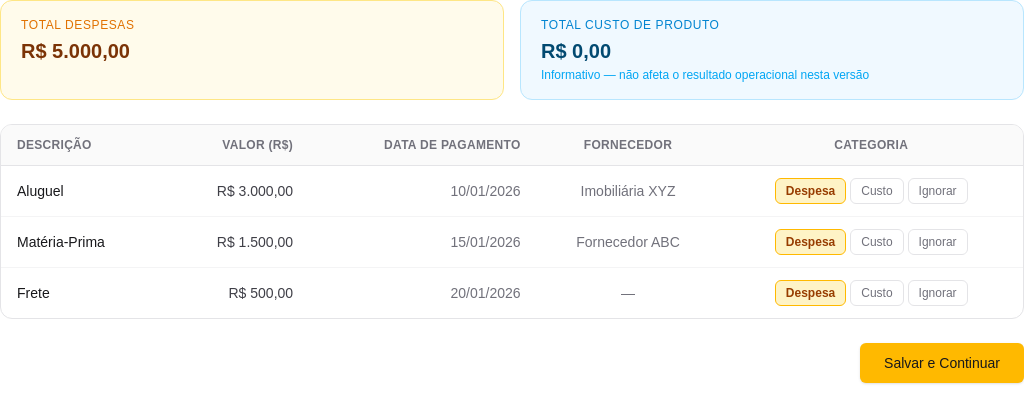
Test: PaidAccountsList › real-time totals (AC: 4) › "Ignorar" does NOT add to any total (AC: 4)
# Change Aluguel to Ignorar
Click the radio button with aria-label "Ignorar" at (938, 191), box [908,178,968,204]
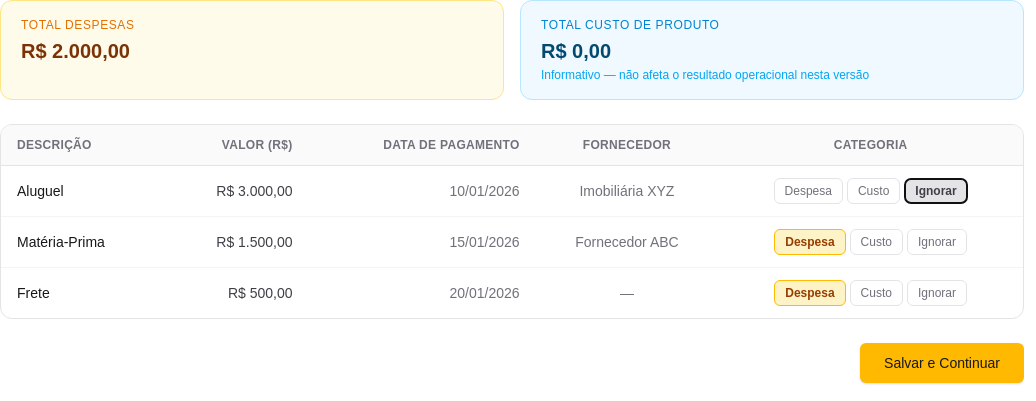
Expected: the field labelled "Total despesas:" does not show "3.0"
Now the text named "Total despesas:" shows "2.000", box [21,40,130,62]
